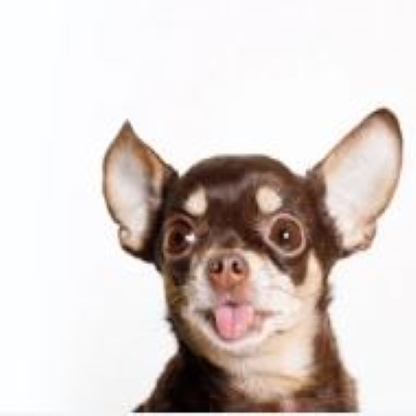chihuahua: (99, 103, 405, 413)
